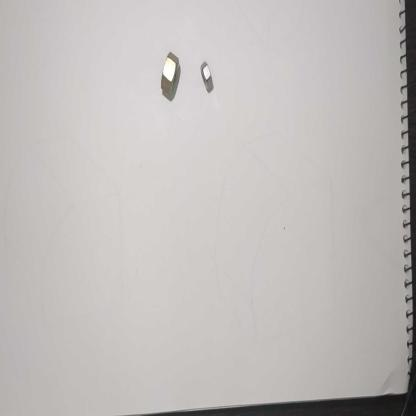NUTS: (150, 46, 185, 110), (197, 53, 227, 106)
